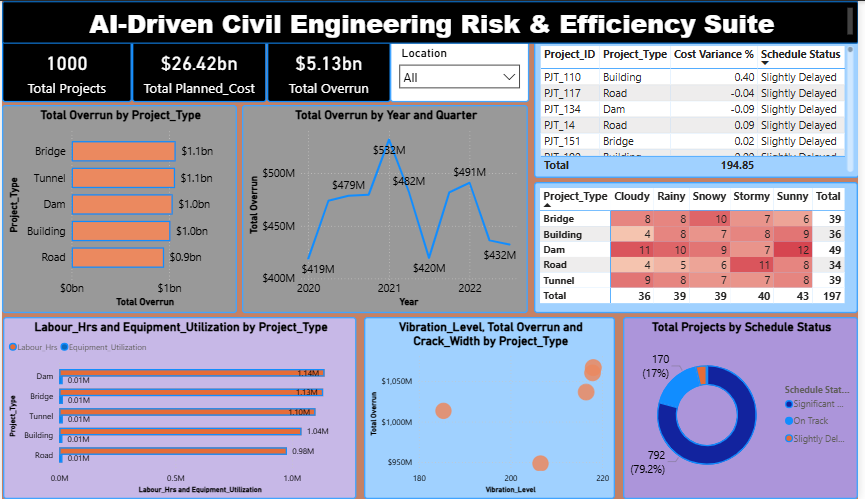

This screenshot's page, from the dashboard's own definition file:
{"tool":"powerbi","page":{"name":"Page 1","canvas":[1280,744],"ordinal":0},"visuals":[{"type":"card","fields":{"Values":["Sum(bim_ai_civil_engineering_dataset.Planned_Cost)"]},"box":[194,57.9,201.3,92.6],"z":0},{"type":"card","fields":{"Values":["Sum(bim_ai_civil_engineering_dataset.Cost_Overrun)"]},"box":[395.3,57.9,185.1,92.6],"z":1000},{"type":"card","title":"Total Projects","fields":{"Values":["Count(bim_ai_civil_engineering_dataset.Project_ID)"]},"box":[0,57.9,194,92.6],"z":2000},{"type":"clusteredBarChart","fields":{"Category":["bim_ai_civil_engineering_dataset.Project_Type"],"Y":["Sum(bim_ai_civil_engineering_dataset.Cost_Overrun)"]},"box":[0,154.9,350.7,311.3],"z":3000},{"type":"donutChart","fields":{"Y":["Count(bim_ai_civil_engineering_dataset.Project_ID)"],"Category":["bim_ai_civil_engineering_dataset.Schedule Status"]},"box":[927.7,472.2,350.7,271.8],"z":4000},{"type":"slicer","fields":{"Values":["bim_ai_civil_engineering_dataset.Location"]},"box":[580,57.7,208,92.6],"z":5000},{"type":"tableEx","fields":{"Values":["bim_ai_civil_engineering_dataset.Project_ID","bim_ai_civil_engineering_dataset.Project_Type","Sum(bim_ai_civil_engineering_dataset.Cost Variance %)","bim_ai_civil_engineering_dataset.Schedule Status"]},"box":[794.1,57.7,485.9,206.5],"z":6000},{"type":"lineChart","fields":{"Y":["Sum(bim_ai_civil_engineering_dataset.Cost_Overrun)"],"Category":["bim_ai_civil_engineering_dataset.Start_Date.Variation.Date Hierarchy.Year","bim_ai_civil_engineering_dataset.Start_Date.Variation.Date Hierarchy.Quarter","bim_ai_civil_engineering_dataset.Start_Date.Variation.Date Hierarchy.Month","bim_ai_civil_engineering_dataset.Start_Date.Variation.Date Hierarchy.Day"]},"box":[359.1,154.9,426.7,311.3],"z":7000},{"type":"scatterChart","fields":{"Category":["bim_ai_civil_engineering_dataset.Project_Type"],"X":["Sum(bim_ai_civil_engineering_dataset.Vibration_Level)"],"Y":["Sum(bim_ai_civil_engineering_dataset.Cost_Overrun)"],"Size":["Sum(bim_ai_civil_engineering_dataset.Crack_Width)"]},"box":[541.3,472.2,375,271.8],"z":8000},{"type":"pivotTable","fields":{"Rows":["bim_ai_civil_engineering_dataset.Project_Type"],"Columns":["bim_ai_civil_engineering_dataset.Weather_Condition"],"Values":["Sum(bim_ai_civil_engineering_dataset.Anomaly_Detected)"]},"box":[794.1,270.3,484.4,195.9],"z":9000},{"type":"clusteredBarChart","fields":{"Category":["bim_ai_civil_engineering_dataset.Project_Type"],"Y":["Sum(bim_ai_civil_engineering_dataset.Labor_Hours)","Sum(bim_ai_civil_engineering_dataset.Equipment_Utilization)"]},"box":[1.5,472.2,528.4,271.8],"z":10000},{"type":"textbox","box":[0,0,1280,64],"z":11000}]}

Visuals, with their boxes in screenshot pixels (x1, y1, x2, y2), scaled from the page's 1280x744 canvas onto the 865x499 screenshot:
card - Sum(bim_ai_civil_engineering_dataset.Planned_Cost): 131, 39, 267, 101
card - Sum(bim_ai_civil_engineering_dataset.Cost_Overrun): 267, 39, 392, 101
"Total Projects" card: 0, 39, 131, 101
clusteredBarChart - bim_ai_civil_engineering_dataset.Project_Type x Sum(bim_ai_civil_engineering_dataset.Cost_Overrun): 0, 104, 237, 313
donutChart - Count(bim_ai_civil_engineering_dataset.Project_ID) x bim_ai_civil_engineering_dataset.Schedule Status: 627, 317, 864, 498
slicer - bim_ai_civil_engineering_dataset.Location: 392, 39, 533, 101
tableEx - bim_ai_civil_engineering_dataset.Project_ID x bim_ai_civil_engineering_dataset.Project_Type: 537, 39, 864, 177
lineChart - Sum(bim_ai_civil_engineering_dataset.Cost_Overrun) x bim_ai_civil_engineering_dataset.Start_Date.Variation.Date Hierarchy.Year: 243, 104, 531, 313
scatterChart - bim_ai_civil_engineering_dataset.Project_Type x Sum(bim_ai_civil_engineering_dataset.Vibration_Level): 366, 317, 619, 498
pivotTable - bim_ai_civil_engineering_dataset.Project_Type x bim_ai_civil_engineering_dataset.Weather_Condition: 537, 181, 864, 313
clusteredBarChart - bim_ai_civil_engineering_dataset.Project_Type x Sum(bim_ai_civil_engineering_dataset.Labor_Hours): 1, 317, 358, 498
textbox: 0, 0, 864, 43
